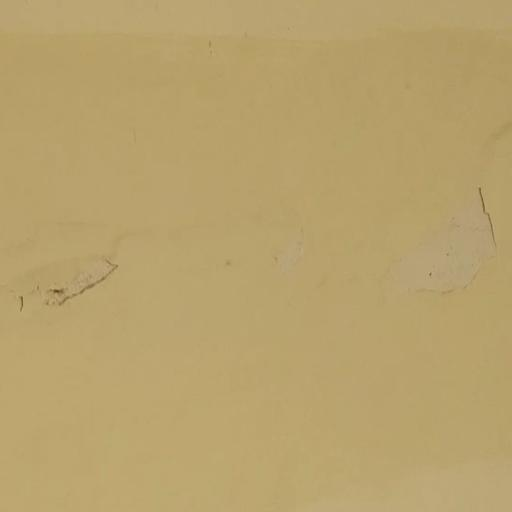peeling: (376, 168, 512, 299), (8, 220, 131, 323), (264, 213, 331, 276)
